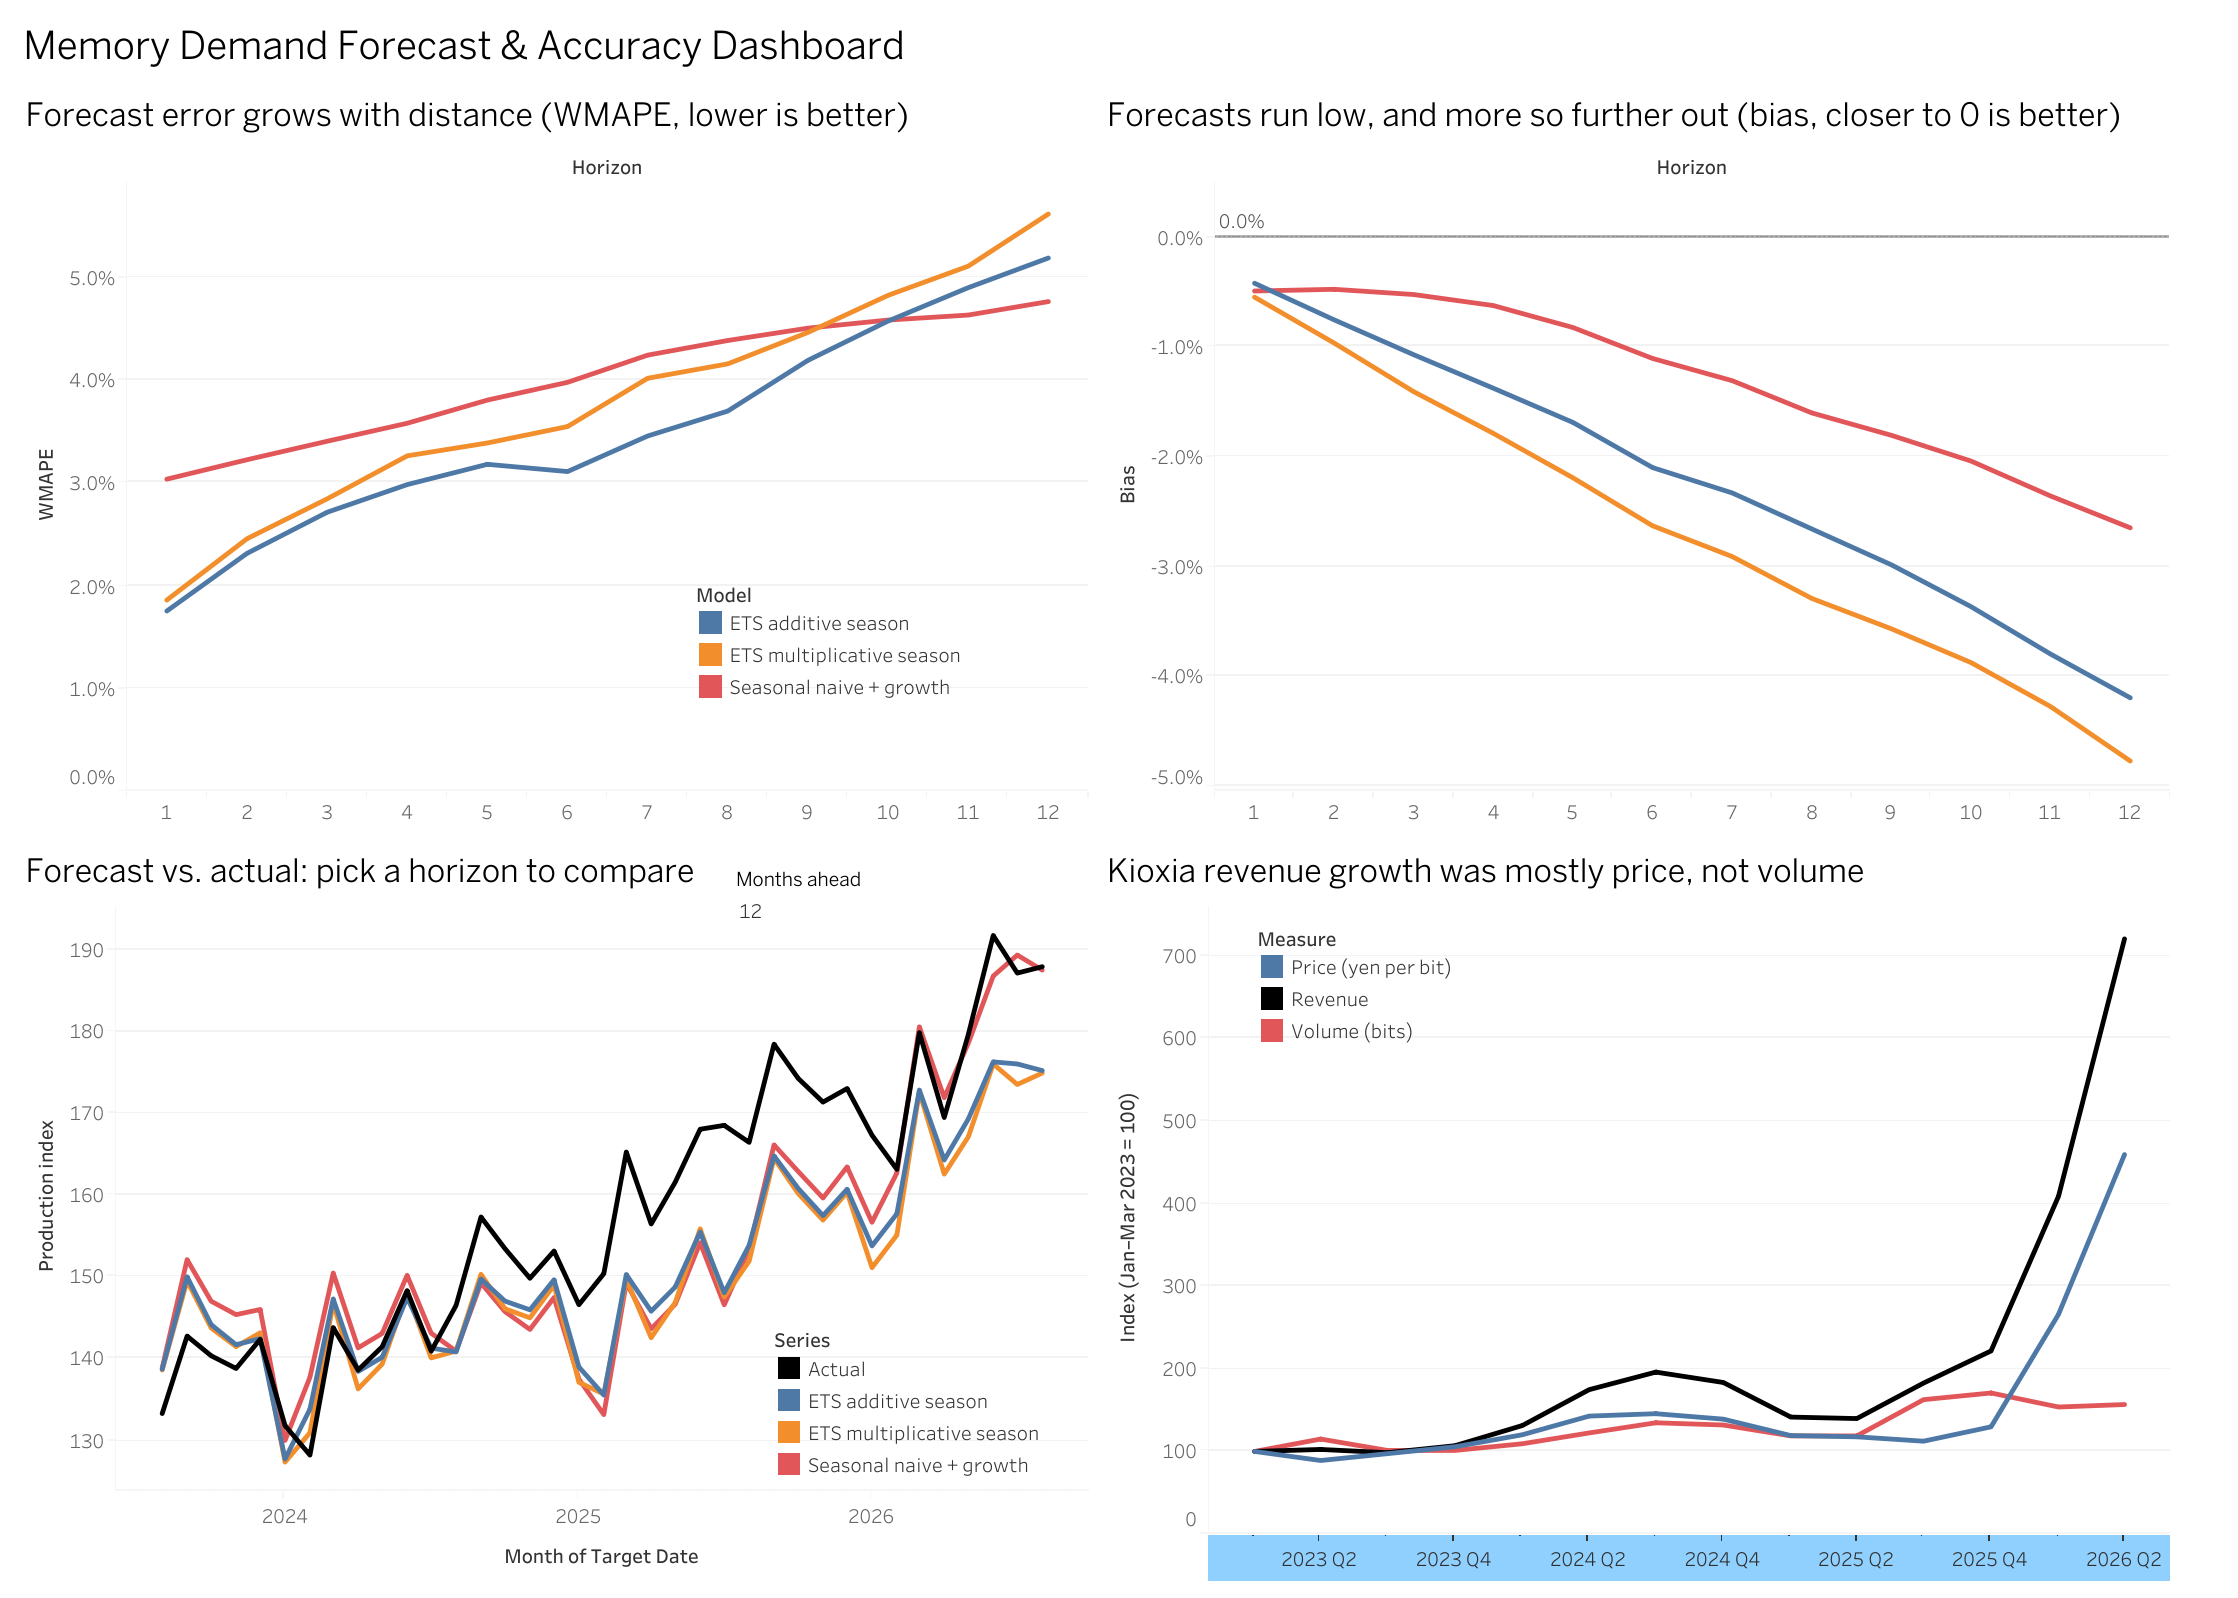

What the dashboard file says about the page in this screenshot:
{"tool":"tableau","page":{"name":"Dashboard 1","canvas":[1400,1000],"ordinal":0},"visuals":[{"type":"title","box":[8,8,1384,39]},{"type":"worksheet","title":"Accuracy by horizon","mark":"Line","rows":["Calculation_0577712197627905"],"cols":["horizon"],"box":[8,47,676,472.5]},{"type":"worksheet","title":"Bias by Horizon","mark":"Line","rows":["Calculation_0577712197664770"],"cols":["horizon"],"box":[684,47,676,472.5]},{"type":"legend","title":"Accuracy by horizon","param":"[federated.1fcrso31bn6my0108iasi11d9is7].[none:model:nk]","box":[434,360,171,78]},{"type":"worksheet","title":"Forecast vs actual","mark":"Automatic","rows":["value"],"cols":["target_date"],"box":[8,519.5,676,472.5]},{"type":"worksheet","title":"Kioxia price vs volume","mark":"Automatic","rows":["index_2023q1_100"],"cols":["quarter_start"],"box":[684,519.5,676,472.5]},{"type":"filter","title":"Forecast vs actual","param":"[federated.04n3kh404gq7dq10nijon03bb9u8].[none:horizon:ok]","box":[460,541,93,52]},{"type":"legend","title":"Kioxia price vs volume","param":"[federated.0wrdswz1kdsdj415zwp050j4e7yq].[none:measure:nk]","box":[785,575,140,78]},{"type":"legend","title":"Forecast vs actual","param":"[federated.04n3kh404gq7dq10nijon03bb9u8].[none:series:nk]","box":[483,826,171,98]}]}

Visuals, with their boxes in screenshot pixels (x1, y1, x2, y2), scaled from the page's 1400x1000 canvas onto the 2238x1598 screenshot:
title: pyautogui.locateOnScreen(13, 13, 2225, 75)
"Accuracy by horizon" worksheet (Line marks): pyautogui.locateOnScreen(13, 75, 1093, 830)
"Bias by Horizon" worksheet (Line marks): pyautogui.locateOnScreen(1093, 75, 2174, 830)
"Accuracy by horizon" legend: pyautogui.locateOnScreen(694, 575, 967, 700)
"Forecast vs actual" worksheet: pyautogui.locateOnScreen(13, 830, 1093, 1585)
"Kioxia price vs volume" worksheet: pyautogui.locateOnScreen(1093, 830, 2174, 1585)
"Forecast vs actual" filter: pyautogui.locateOnScreen(735, 865, 884, 948)
"Kioxia price vs volume" legend: pyautogui.locateOnScreen(1255, 919, 1479, 1043)
"Forecast vs actual" legend: pyautogui.locateOnScreen(772, 1320, 1045, 1477)
